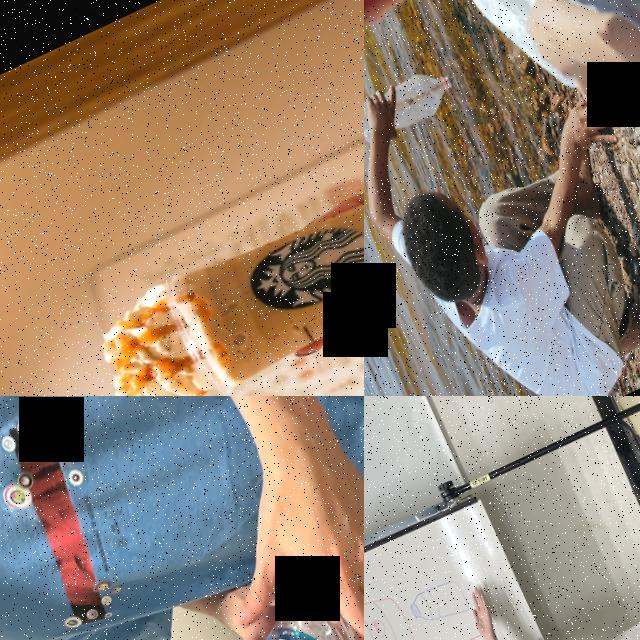bottle: (173, 568, 364, 640), (364, 55, 464, 152)
cup: (157, 153, 364, 396)
